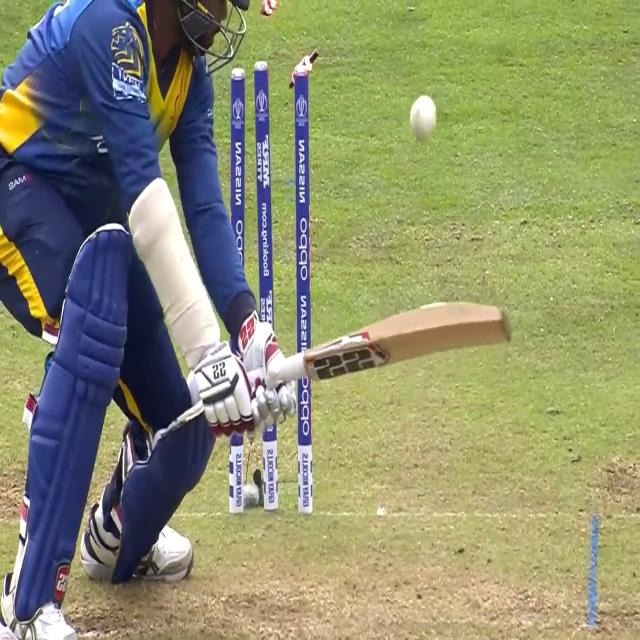ball: (408, 91, 440, 148)
